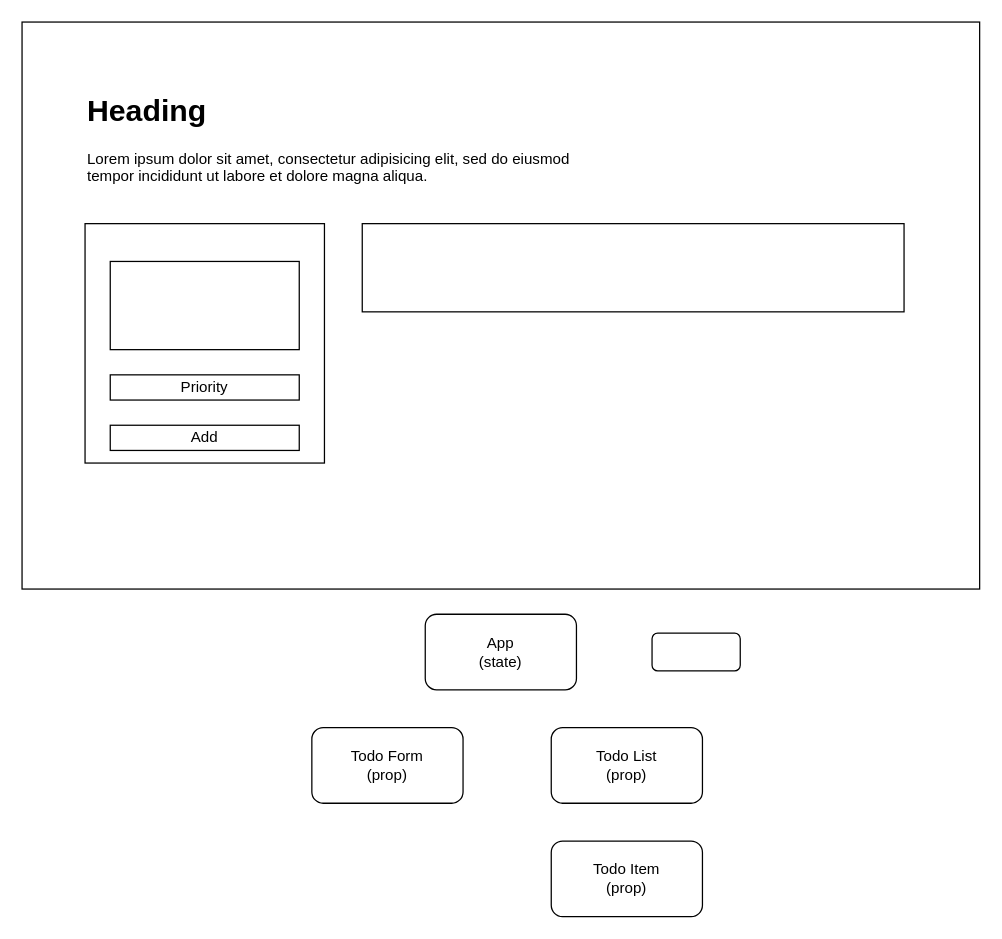
Image size: 1002x939. Some labels were removed from this diagram. The shapes that lost their labels are listed below. From the top down, each one's centre as x and y in pixels, then its label:
At [632,267]: "Todo Output Table".
At [204,305]: "Todo input".
At [695,651]: "Header".
